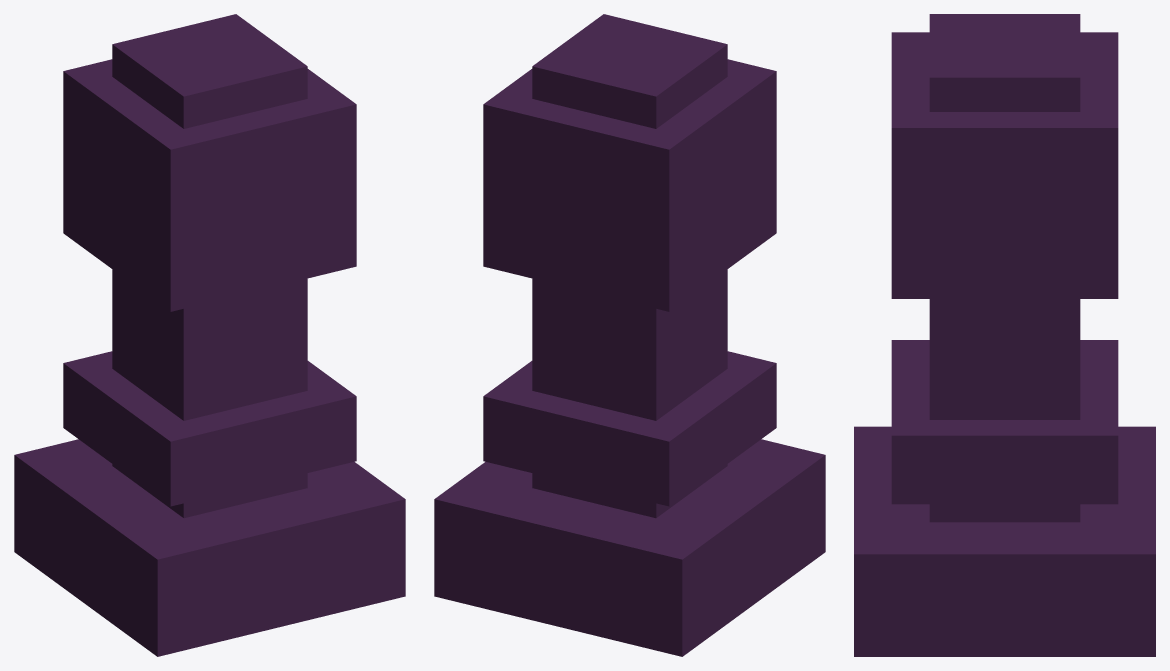
File: token-v2-purple.gltf
3 views of the same model, side by side, from view 1: azimuth 30°, elevation 25°; view 2: azimuth 150°, elevation 25°; view 3: azimuth 270°, elevation 25° (orthographic). The views are drawn at different scales.
Visible parts, largest first — view 1: Untitled; view 2: Untitled; view 3: Untitled.
Boxes of the visible parts, bbox=[...] form: Untitled: bbox=[14, 14, 405, 656]; Untitled: bbox=[434, 14, 825, 656]; Untitled: bbox=[854, 14, 1155, 656].
Bounding box in the file's own units: 0.8 × 1.6 × 0.8.
Materials: 1 (1 with a texture image).
